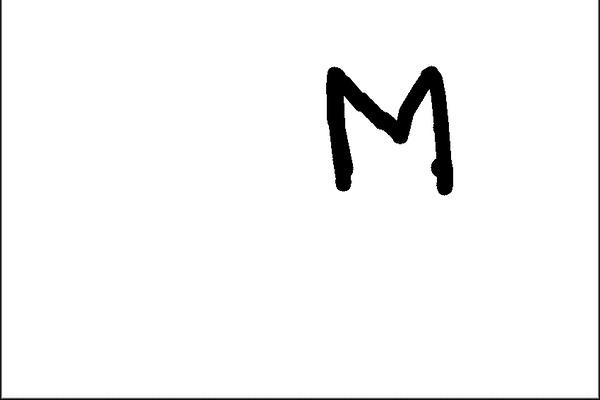M: (318, 57, 457, 196)
